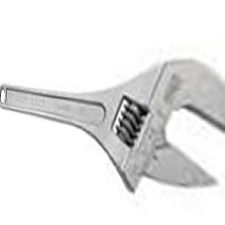Wrench: (6, 52, 225, 200)
